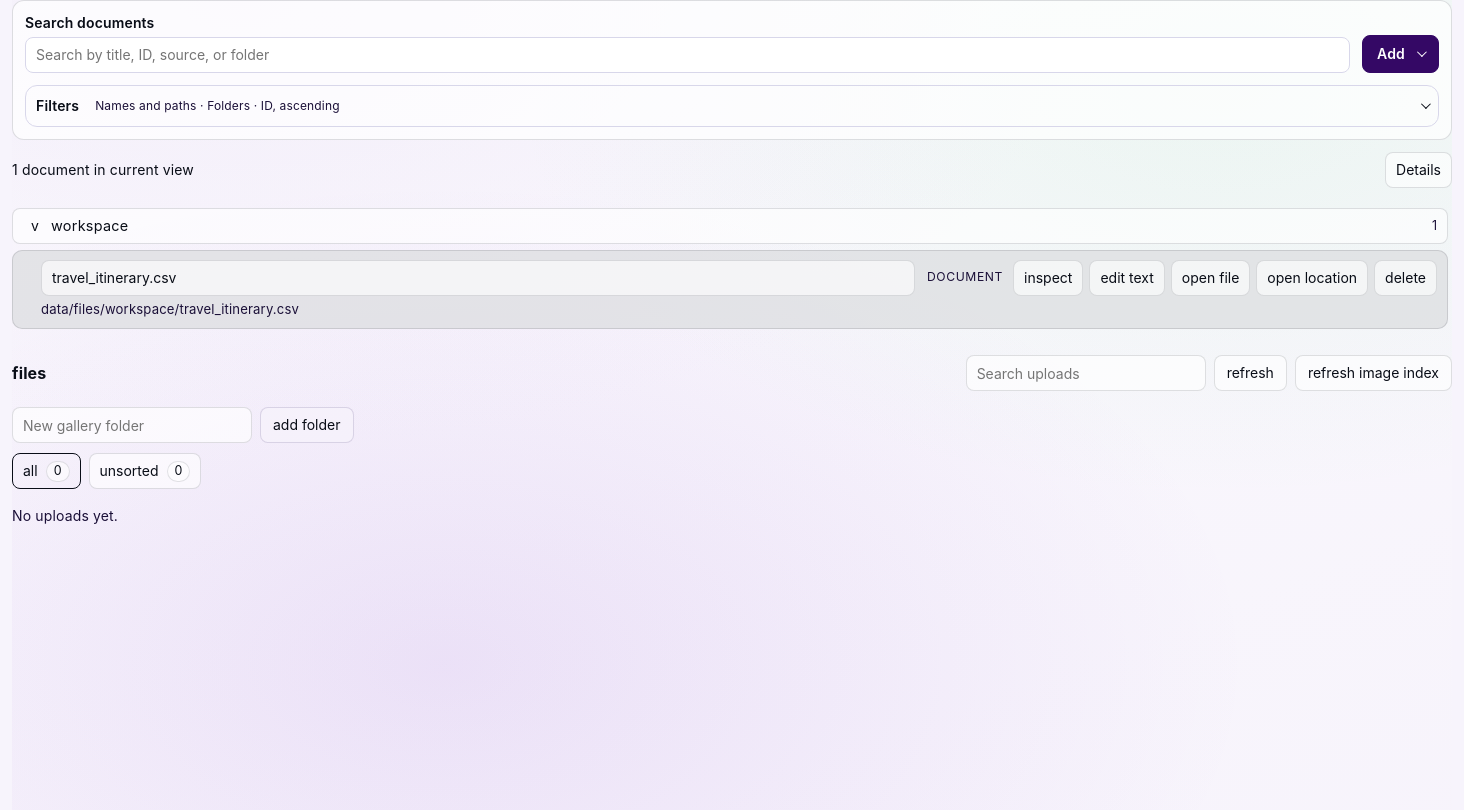
DocumentsTab CSV preview › renders workspace csv files as a client-side table preview
What coordinates should you click on to do the following:
click the button "travel_itinerary.csv"
I would click on:
 (114, 277)
Its box is [41,260,915,296].
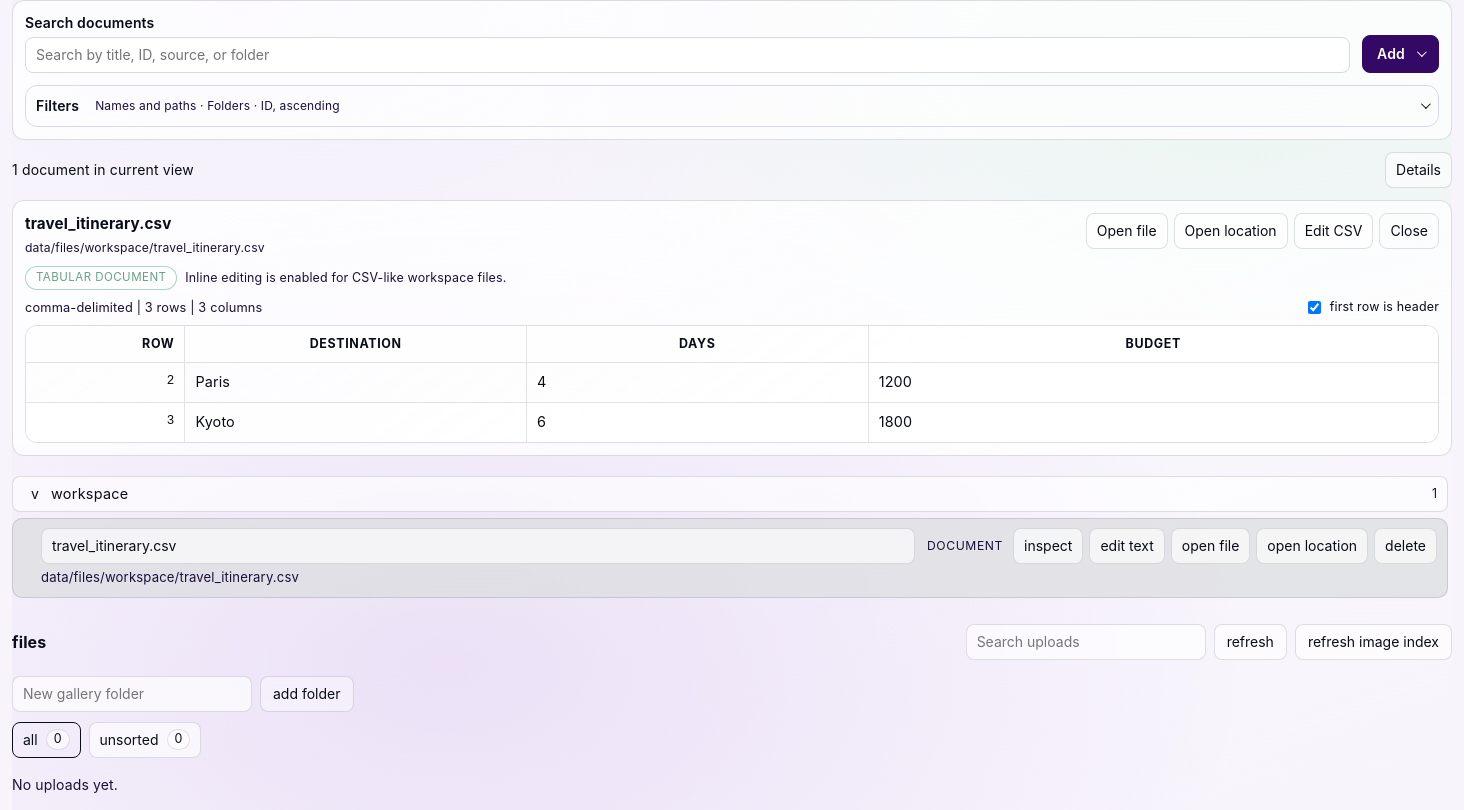
Result: the checkbox labelled "first row is header" is checked
Result: the text "comma-delimited | 3 rows | 3 columns" is shown at [25,298,262,317]
Result: the column heading "destination" is shown at [185,326,527,363]
What coordinates should you click on to do the following:
click the checkbox labelled "first row is header"
I would click on:
 (1314, 308)
Its box is [1308,301,1321,314].
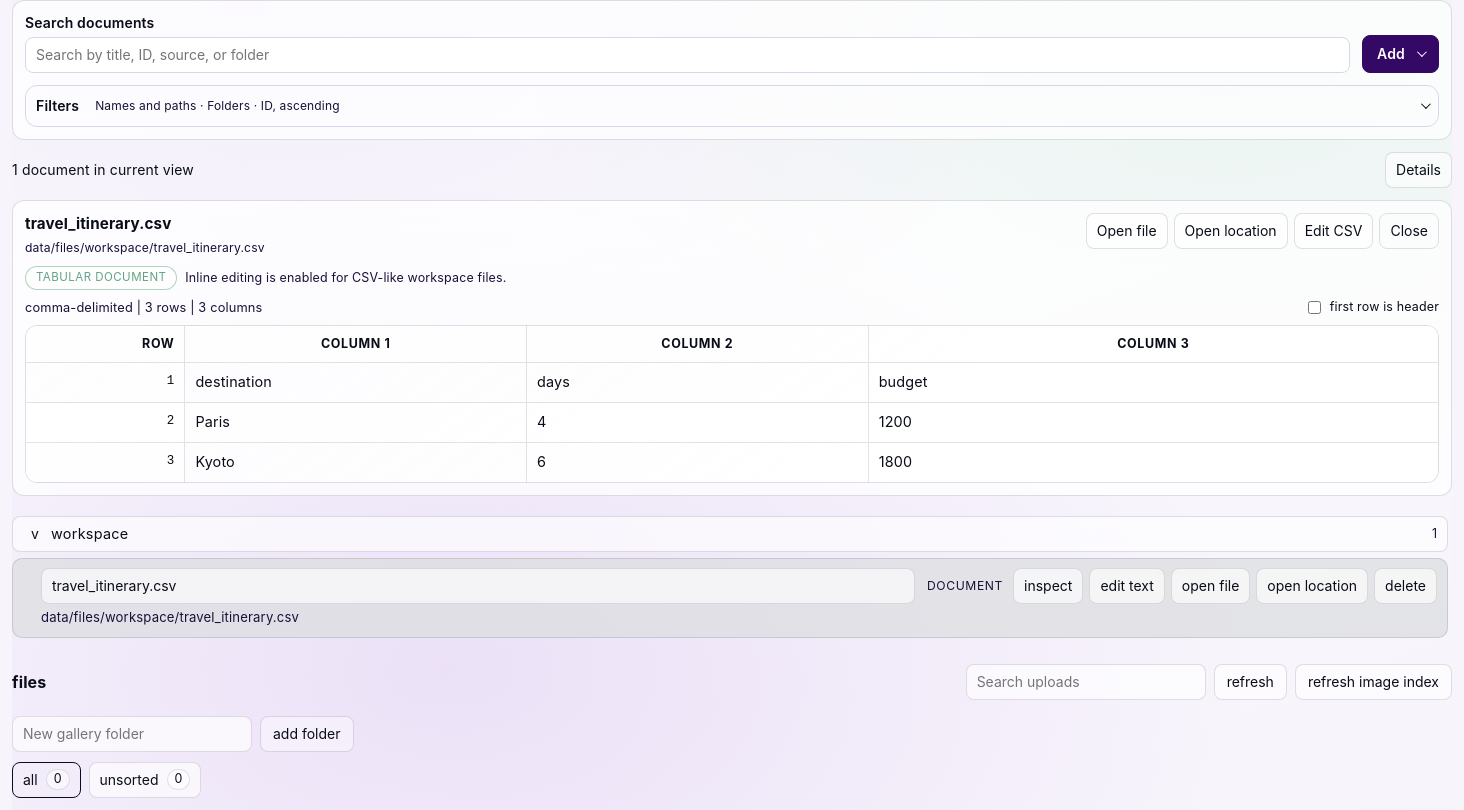
Result: the column heading "column 1" is shown at [185,326,527,363]
Result: the text "destination" is shown at [185,363,527,403]
